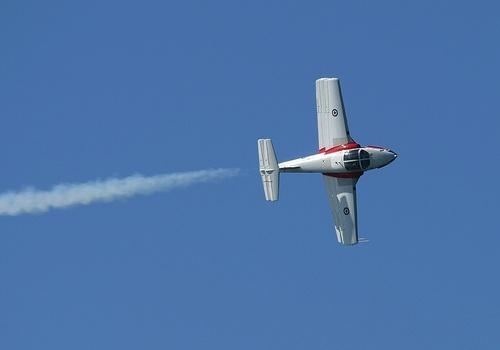aeroplane: (259, 78, 400, 247)
